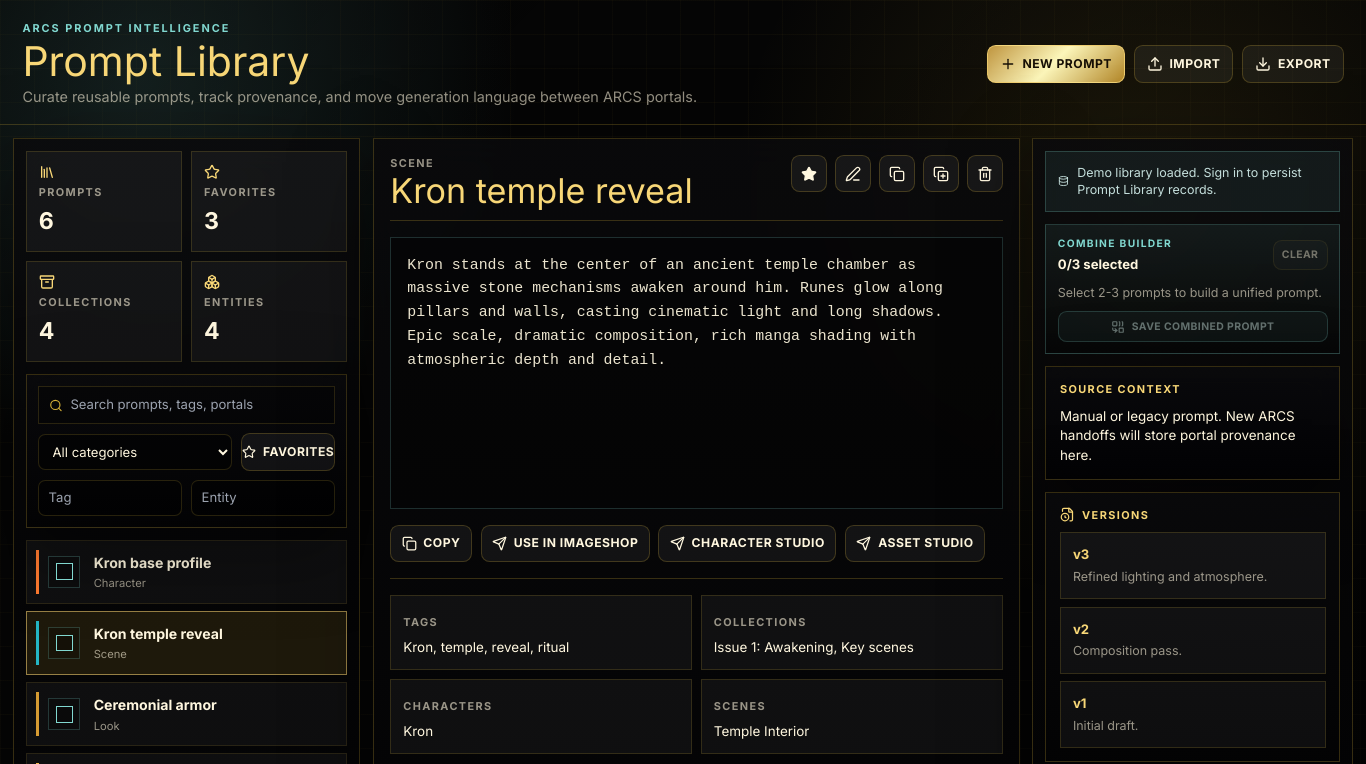
Test: PromptLibraryPortal › combines selected prompts into a new selected library prompt
This screenshot has width=1366, height=764.
Click the checkbox named "Select Kron base profile for combine": (64, 572) [48, 556, 80, 588]
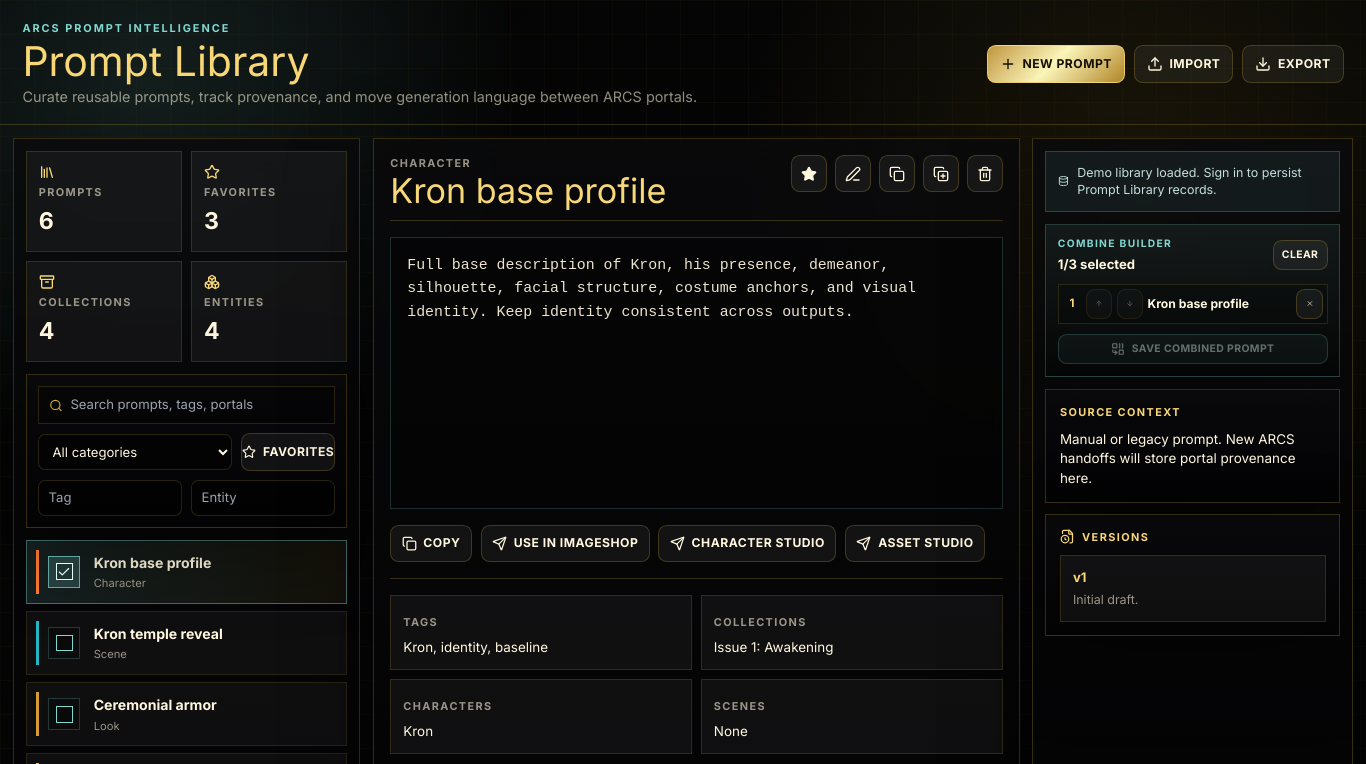
Click the checkbox named "Select Kron temple reveal for combine": (64, 643) [48, 627, 80, 659]
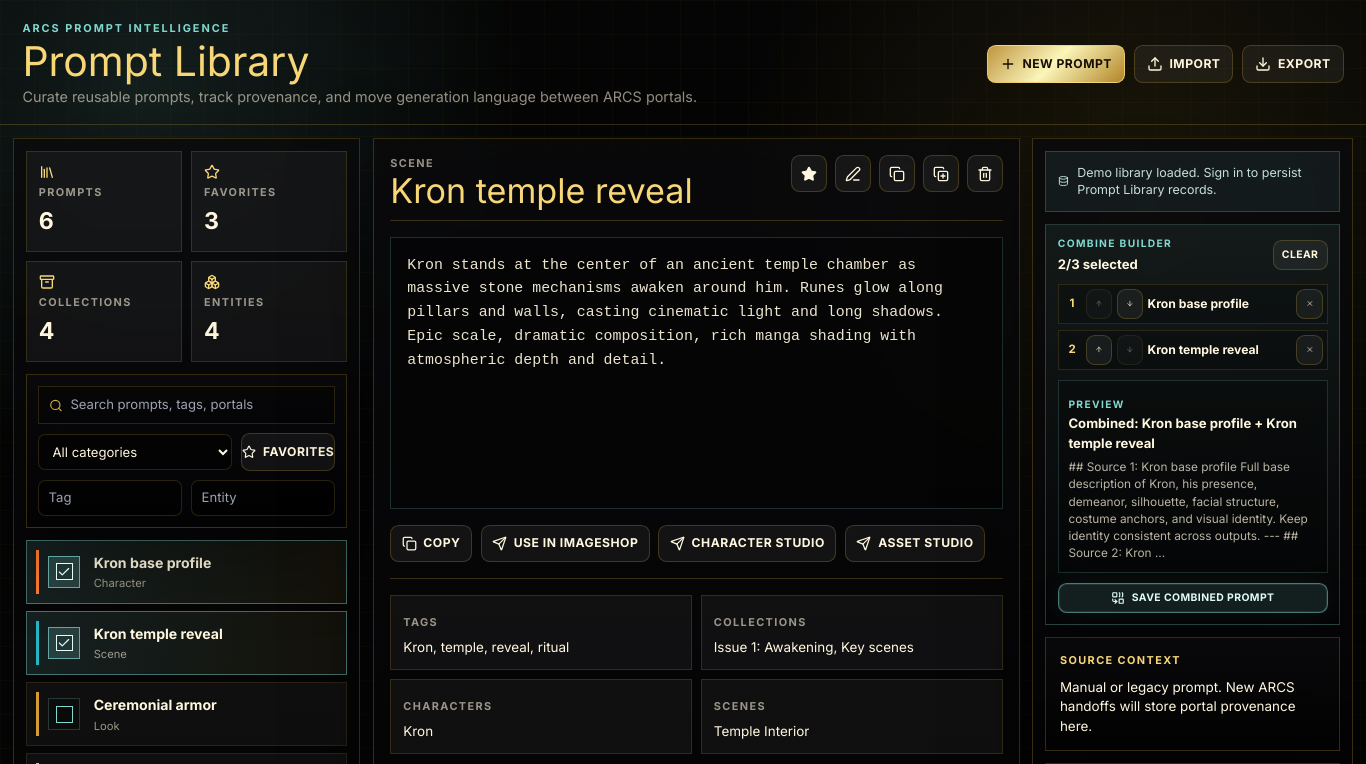
Expected: the text "2/3 selected" is shown, [1058, 256, 1138, 272]
Expected: the text "Combined: Kron base profile + Kron temple reveal" is shown, [1068, 414, 1317, 454]
Click the button "Save combined prompt": (1193, 598) [1058, 582, 1328, 613]
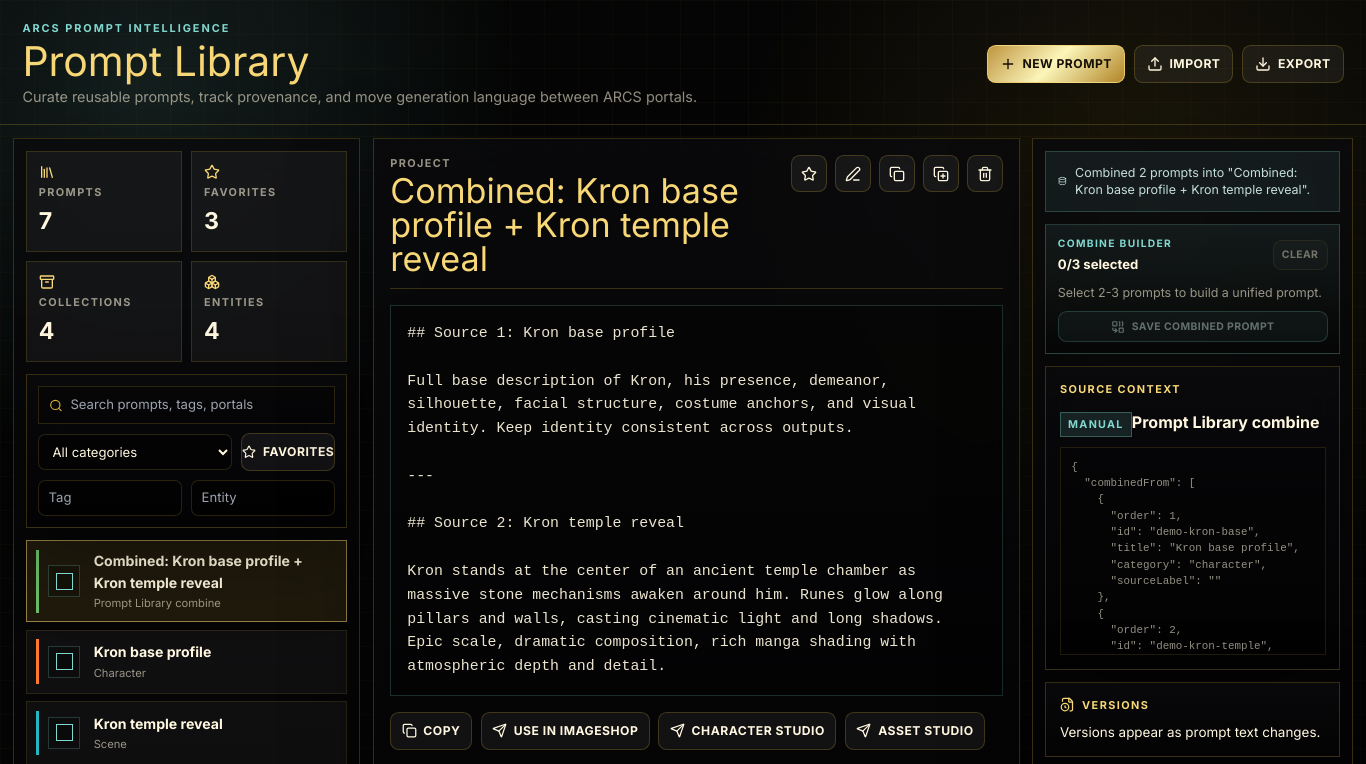
Expected: the heading "Combined: Kron base profile + Kron temple reveal" is shown, [390, 174, 775, 276]
Expected: the text "0/3 selected" is shown, [1058, 256, 1138, 272]
Expected: the text "Combined 2 prompts into" is shown, [1075, 165, 1310, 197]
